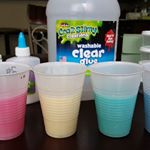cups: (31, 60, 88, 139), (88, 60, 144, 140)
